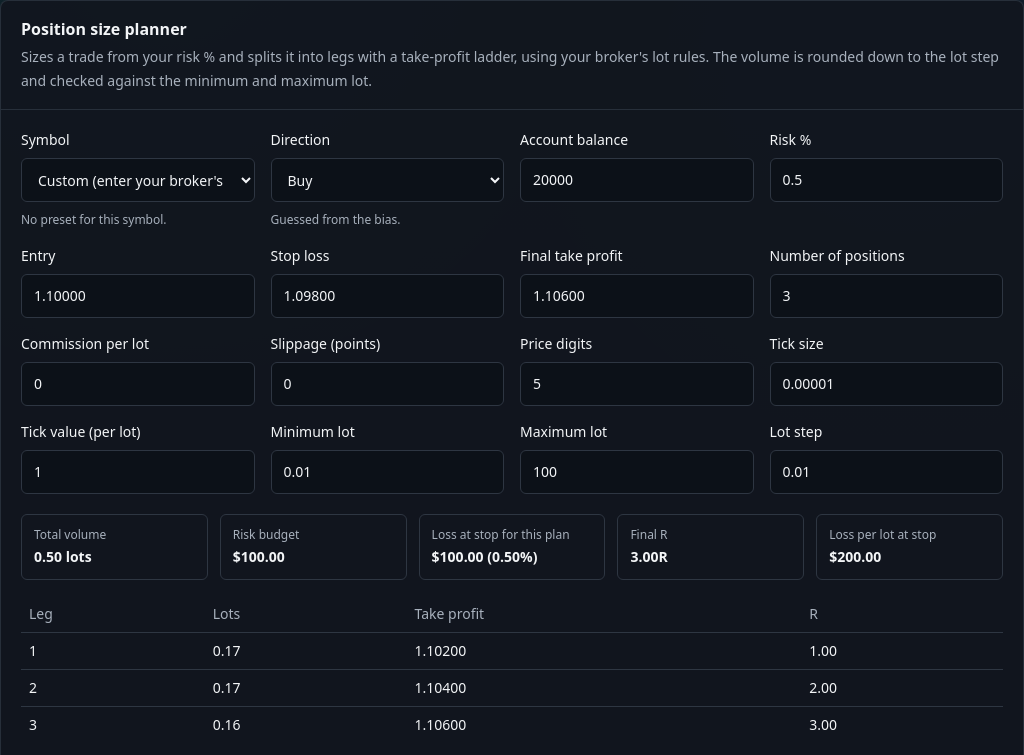
Test: PositionPlanner opened from a plan › explains a symbol and a direction the same way
Check: the text "No preset for this symbol." is shown, box left=21, top=211, right=167, bottom=228
Select "Sell" in the dropdown labelled "Direction" at (387, 180), box left=270, top=158, right=504, bottom=202
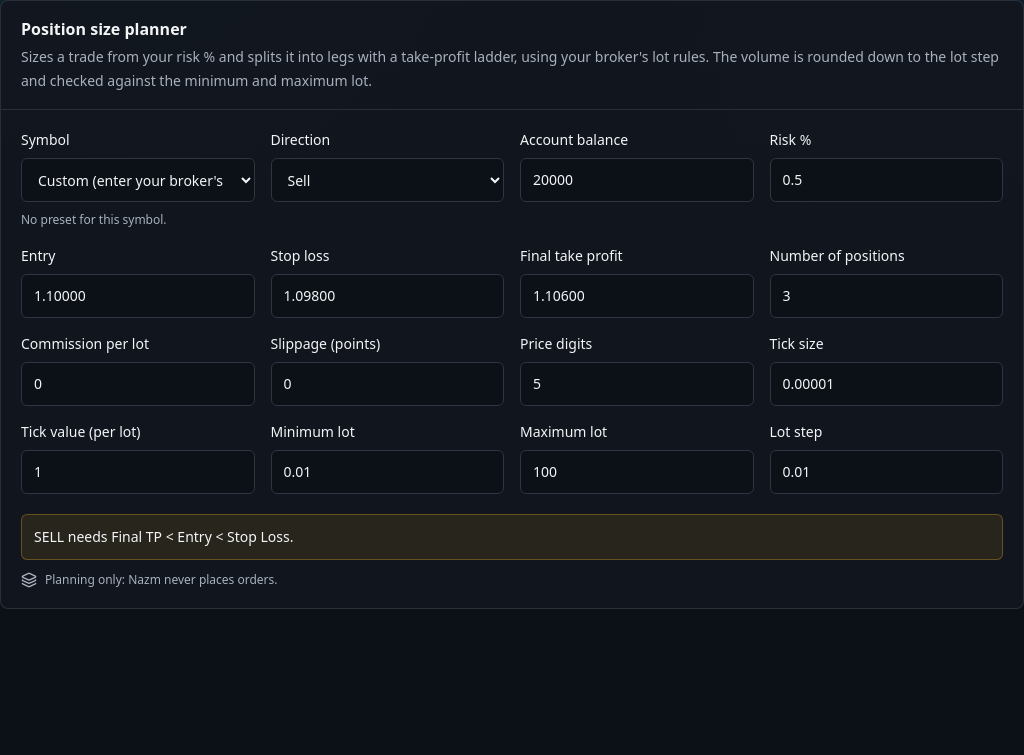
Check: the text "No preset for this symbol." is shown, box left=21, top=211, right=167, bottom=228
Check: the text "Guessed from the bias." is gone
Select "EURUSD" in the dropdown labelled "Symbol" at (138, 180), box left=21, top=158, right=254, bottom=202
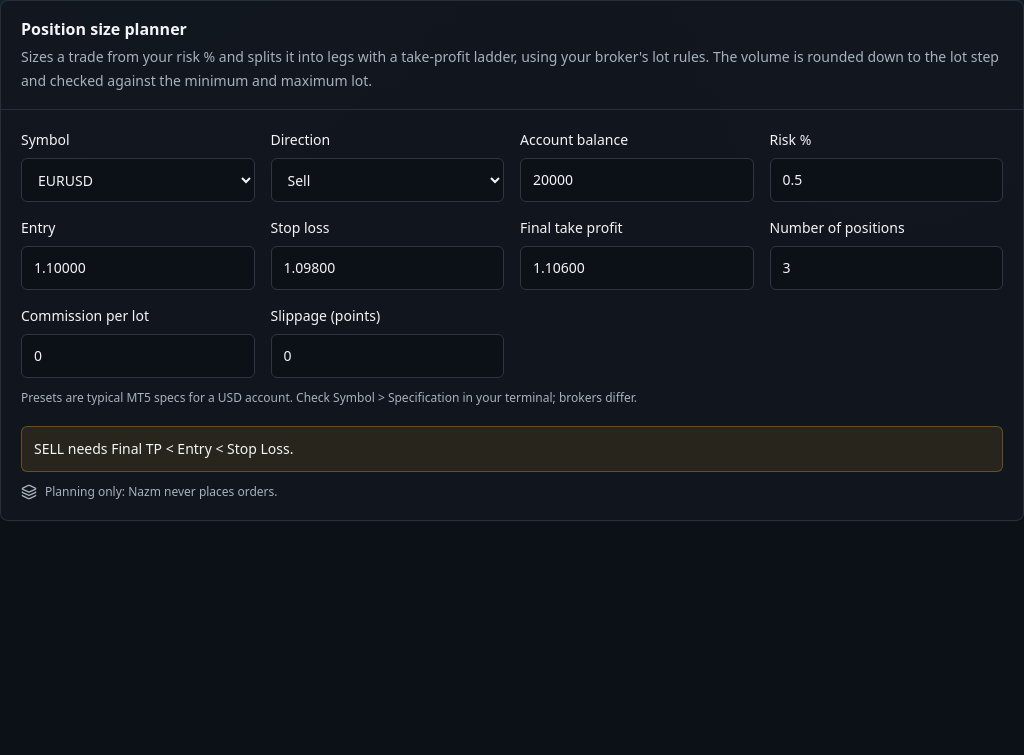
Check: the text "No preset for this symbol." is gone
